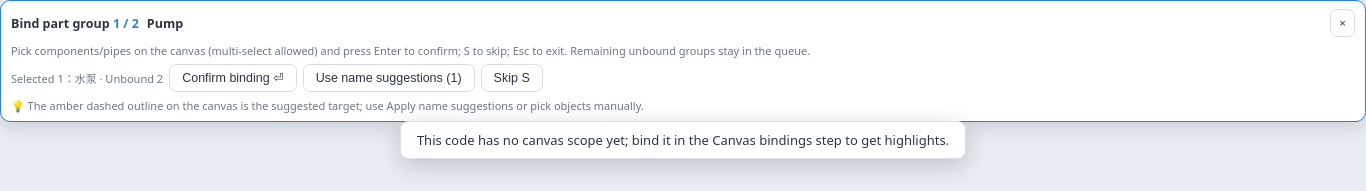
it: BindingWizard › 确认绑定后自动进入下一组并保留进度
Click the button "Confirm binding ⏎" at (233, 78), box [169, 64, 297, 92]
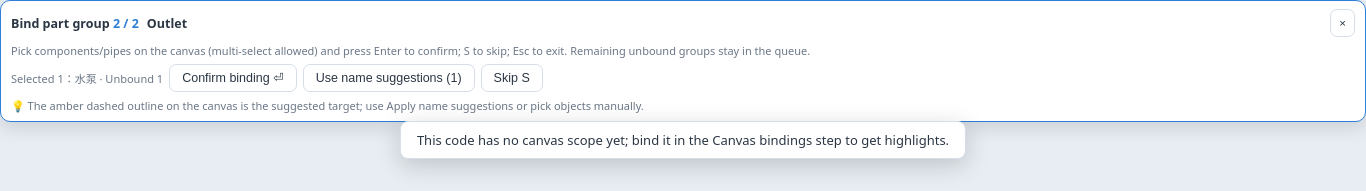
Expected: the element with test id "bind-wizard" shows "2 / 2"
